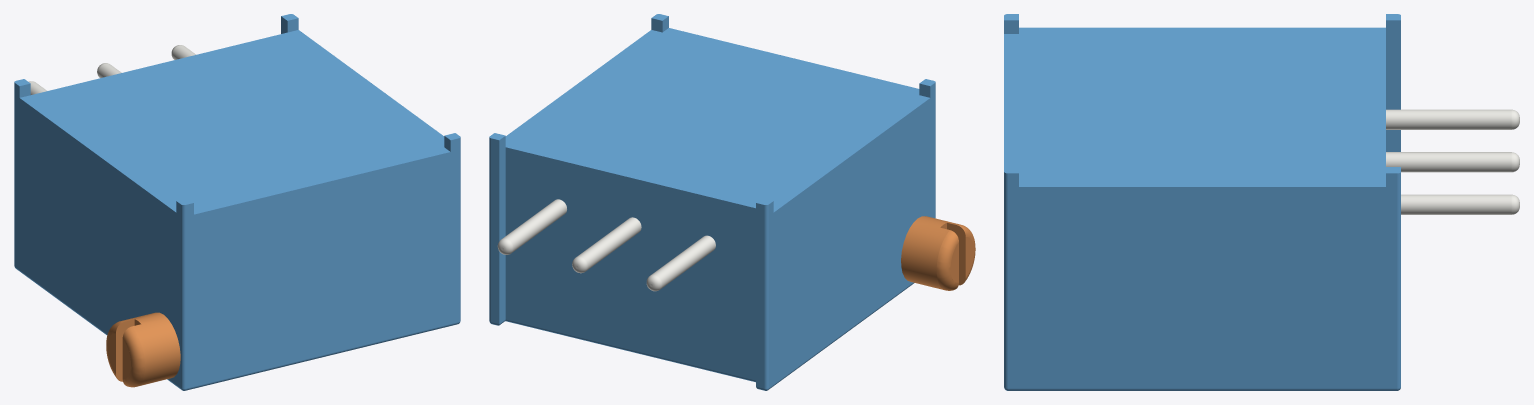
File: Potentiometer_Bourns_3299X_Horizontal.glb
The picture shows the model from 3 angles, left to right: view 1: azimuth 30°, elevation 25°; view 2: azimuth 150°, elevation 25°; view 3: azimuth 270°, elevation 25°; orthographic projection. The views are drawn at different scales.
Visible parts, largest first — view 1: Shape_IndexedFaceSet.015, Shape_IndexedFaceSet.028, Shape_IndexedFaceSet.019, Shape_IndexedFaceSet.020, Shape_IndexedFaceSet.032, Shape_IndexedFaceSet.044, Shape_IndexedFaceSet.005, Shape_IndexedFaceSet.041; view 2: Shape_IndexedFaceSet.028, Shape_IndexedFaceSet.014, Shape_IndexedFaceSet.019, Shape_IndexedFaceSet.020, Shape_IndexedFaceSet.021, Shape_IndexedFaceSet.009, Shape_IndexedFaceSet.031, Shape_IndexedFaceSet.030, Shape_IndexedFaceSet.029, Shape_IndexedFaceSet.011, Shape_IndexedFaceSet.038, Shape_IndexedFaceSet.042 (+2 smaller); view 3: Shape_IndexedFaceSet.012, Shape_IndexedFaceSet.028, Shape_IndexedFaceSet.029, Shape_IndexedFaceSet.031, Shape_IndexedFaceSet.030, Shape_IndexedFaceSet.017, Shape_IndexedFaceSet.003, Shape_IndexedFaceSet.022, Shape_IndexedFaceSet.025.
Part boxes in pixels (bbox=[...]): Shape_IndexedFaceSet.015: bbox=[185, 138, 458, 388]; Shape_IndexedFaceSet.028: bbox=[20, 30, 449, 214]; Shape_IndexedFaceSet.019: bbox=[15, 83, 180, 387]; Shape_IndexedFaceSet.020: bbox=[122, 312, 180, 386]; Shape_IndexedFaceSet.032: bbox=[181, 204, 185, 388]; Shape_IndexedFaceSet.044: bbox=[122, 326, 144, 387]; Shape_IndexedFaceSet.005: bbox=[185, 322, 458, 390]; Shape_IndexedFaceSet.041: bbox=[116, 319, 134, 381]; Shape_IndexedFaceSet.028: bbox=[505, 28, 929, 212]; Shape_IndexedFaceSet.014: bbox=[505, 147, 755, 380]; Shape_IndexedFaceSet.019: bbox=[769, 83, 934, 387]; Shape_IndexedFaceSet.020: bbox=[901, 216, 959, 289]; Shape_IndexedFaceSet.021: bbox=[756, 203, 764, 388]; Shape_IndexedFaceSet.009: bbox=[491, 138, 499, 323]; Shape_IndexedFaceSet.031: bbox=[577, 217, 641, 270]; Shape_IndexedFaceSet.030: bbox=[502, 199, 566, 252]; Shape_IndexedFaceSet.029: bbox=[651, 235, 715, 288]; Shape_IndexedFaceSet.011: bbox=[499, 136, 505, 323]; Shape_IndexedFaceSet.038: bbox=[764, 204, 768, 388]; Shape_IndexedFaceSet.042: bbox=[936, 230, 958, 290]; Shape_IndexedFaceSet.012: bbox=[1008, 173, 1396, 388]; Shape_IndexedFaceSet.028: bbox=[1004, 27, 1385, 186]; Shape_IndexedFaceSet.029: bbox=[1386, 109, 1511, 129]; Shape_IndexedFaceSet.031: bbox=[1386, 152, 1511, 172]; Shape_IndexedFaceSet.030: bbox=[1401, 194, 1511, 214]; Shape_IndexedFaceSet.017: bbox=[1386, 20, 1400, 151]; Shape_IndexedFaceSet.003: bbox=[1008, 388, 1396, 390]; Shape_IndexedFaceSet.022: bbox=[1397, 172, 1400, 388]; Shape_IndexedFaceSet.025: bbox=[1004, 172, 1007, 388].
Bounding box in the file's own units: 4.35 × 2.4 × 5.13.
